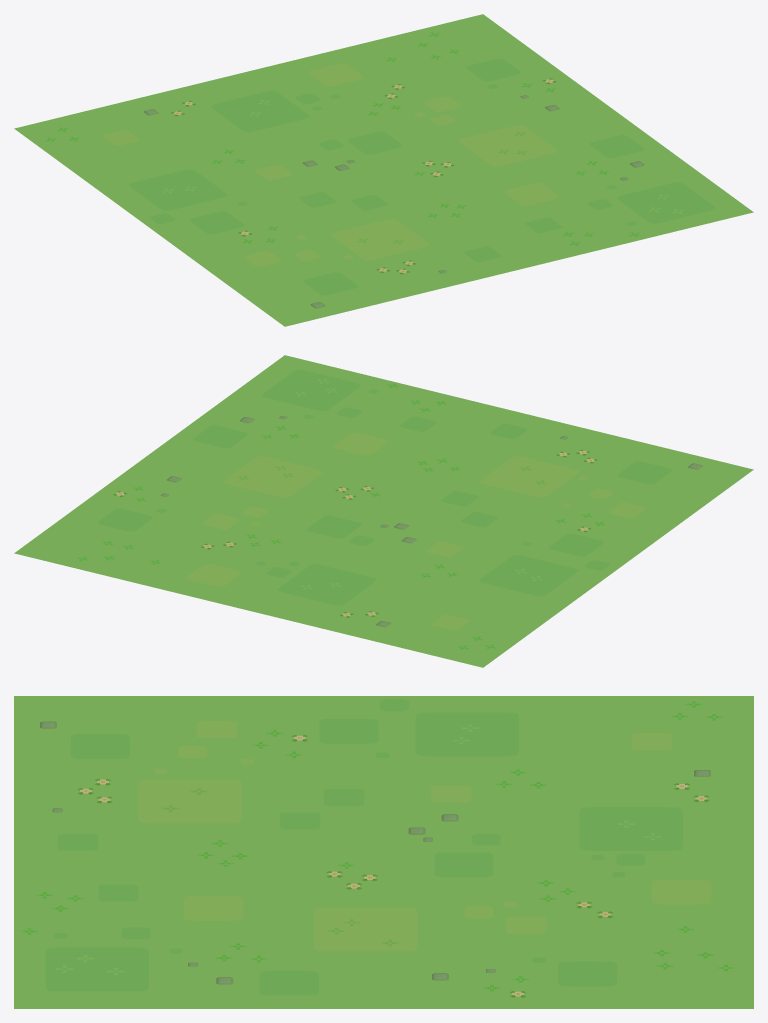
Rendered from C_grass1_01.fbx.
3 renders of one model, top to bottom at view 1: azimuth 30°, elevation 25°; view 2: azimuth 150°, elevation 25°; view 3: azimuth 270°, elevation 25°, orthographic. The views are drawn at different scales.
Visible parts, largest first — view 1: C_grass1_01; view 2: C_grass1_01; view 3: C_grass1_01.
Part boxes in pixels (x1,y1,x2,y2): C_grass1_01: (14, 14, 753, 326); C_grass1_01: (14, 355, 753, 667); C_grass1_01: (14, 696, 753, 1008).
Bounding box in the file's own units: 50 × 0.1888 × 50.
